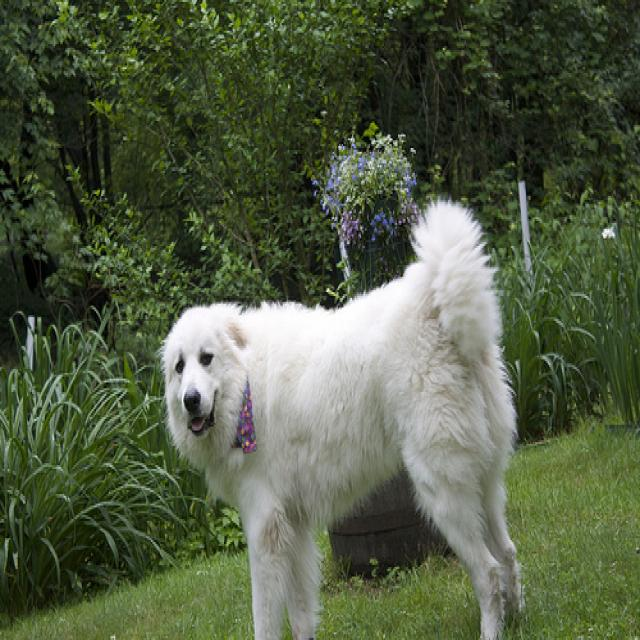dog-great_pyrenees: (155, 188, 532, 636)
